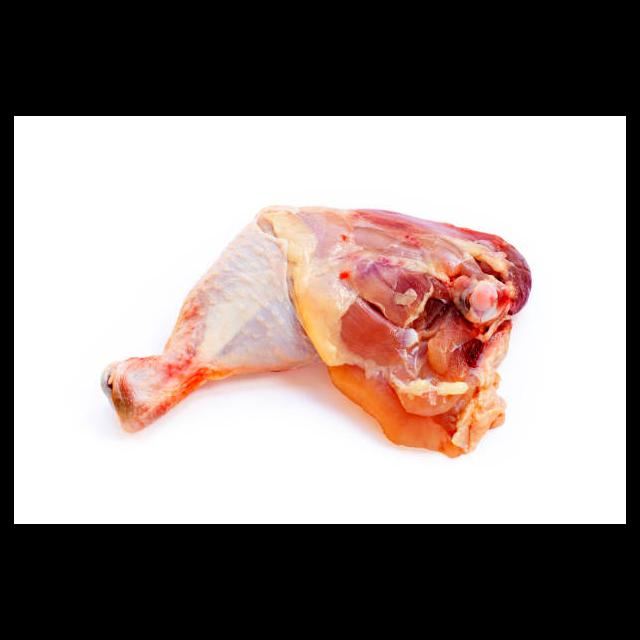chicken: (97, 202, 533, 460)
